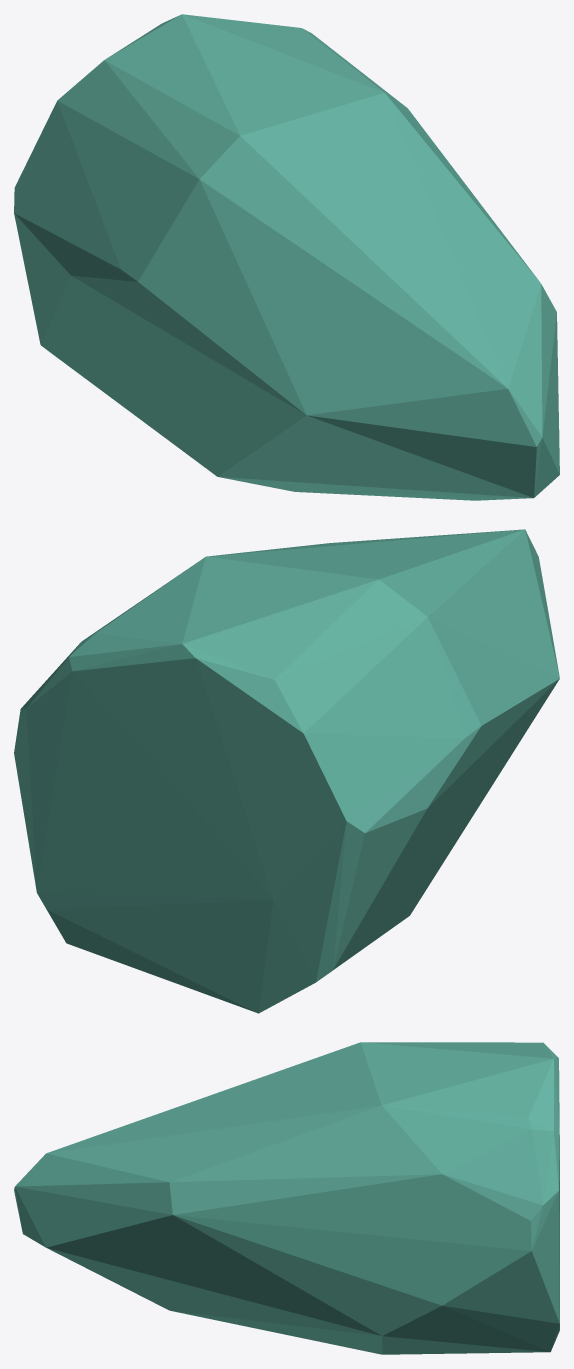
File: paint_container_bottle_pink_a01.glb
The picture shows the model from 3 angles, top to bottom: view 1: azimuth 30°, elevation 25°; view 2: azimuth 150°, elevation 25°; view 3: azimuth 270°, elevation 25°; orthographic projection. The views are drawn at different scales.
Visible parts, largest first — view 1: geometry_0; view 2: geometry_0; view 3: geometry_0.
Boxes of the visible parts, x1,y1,x2,y2 form: geometry_0: (14,14,559,500); geometry_0: (14,529,559,1013); geometry_0: (14,1042,559,1354).
Bounding box in the file's own units: 0.2778 × 0.2701 × 0.48.
